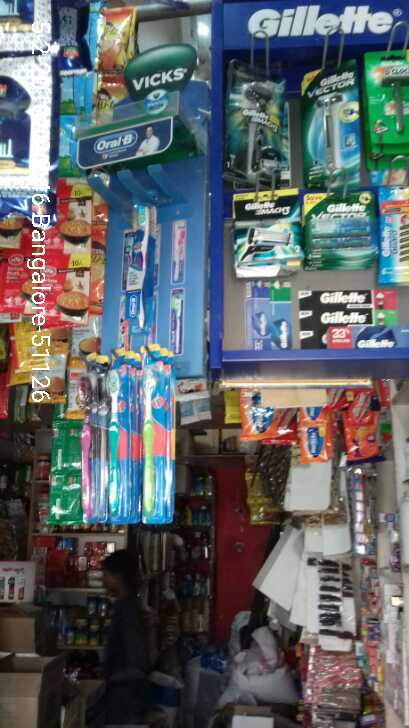beauty: (225, 57, 285, 183), (302, 59, 362, 182), (231, 188, 301, 258), (304, 191, 376, 252), (363, 51, 409, 146), (376, 185, 409, 285), (328, 325, 409, 350), (296, 289, 373, 309), (298, 310, 374, 328)
pharmacy: (102, 349, 130, 516), (139, 342, 164, 519), (125, 201, 156, 328)
